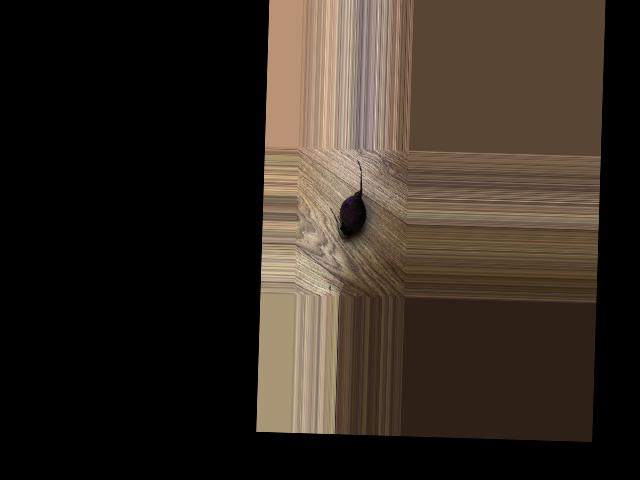beet: (329, 158, 368, 239)
